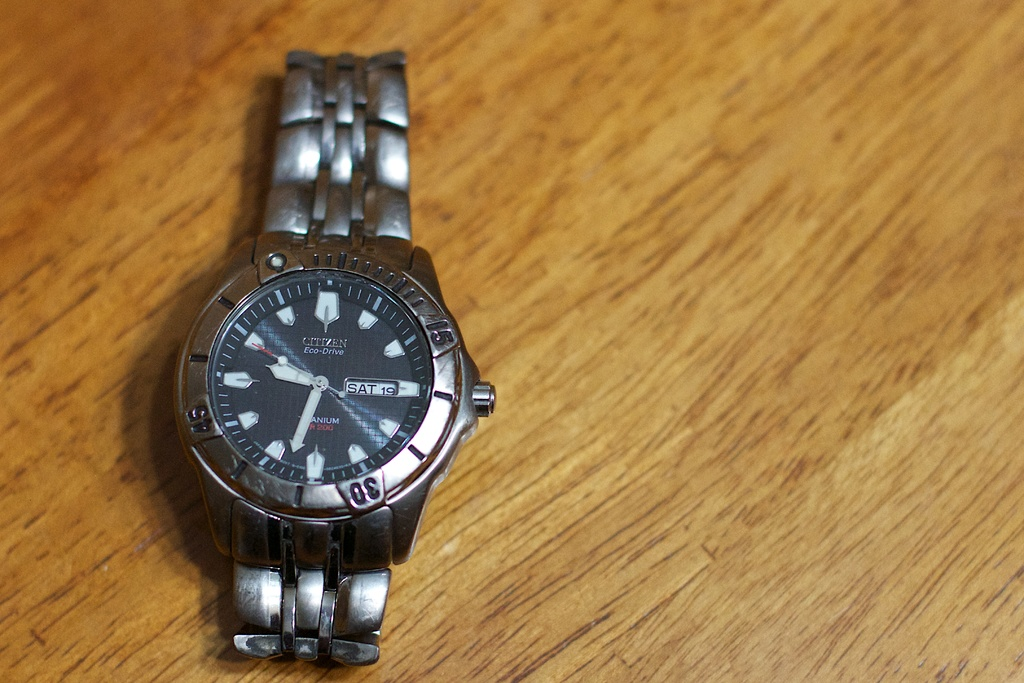watch: (174, 42, 503, 672)
